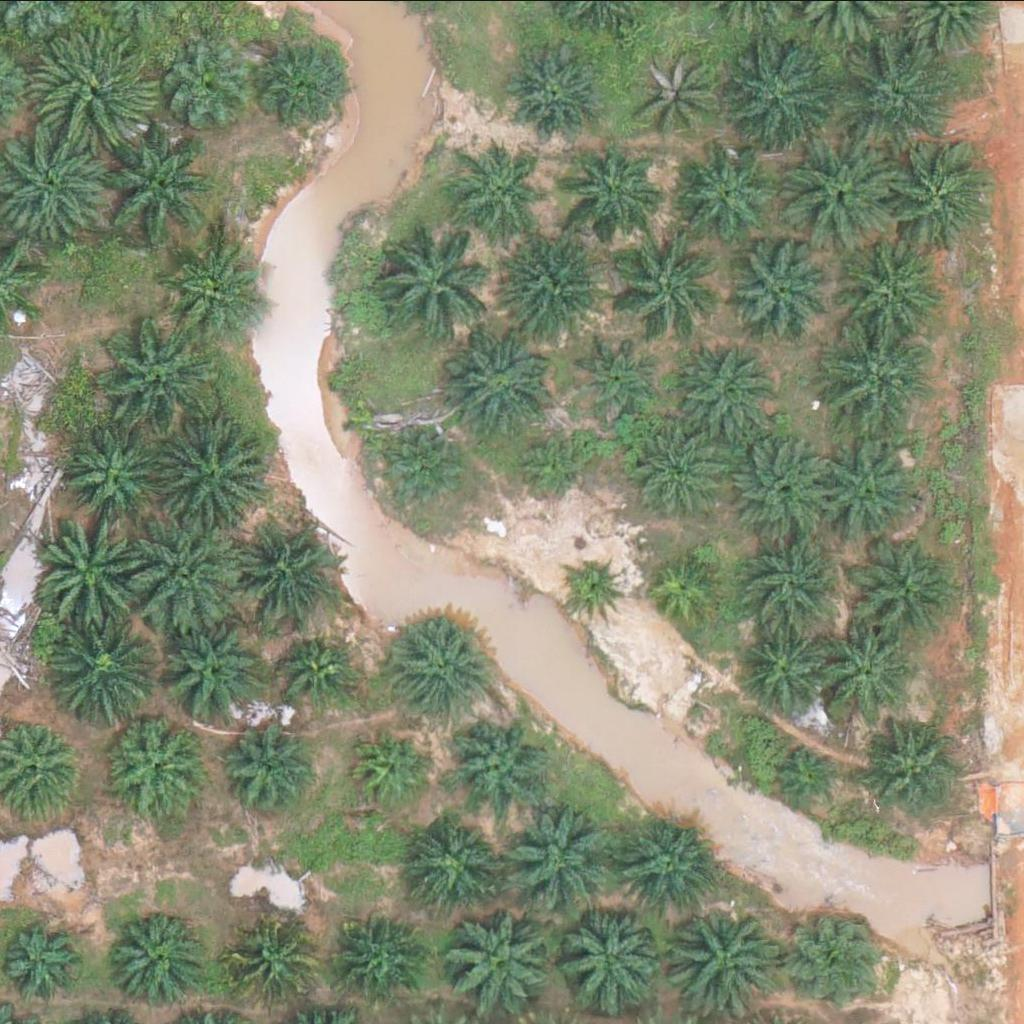Kelapa_Sawit: (156, 420, 270, 533), (884, 136, 997, 249), (374, 223, 487, 336), (447, 329, 560, 442), (725, 431, 838, 544), (813, 434, 926, 547), (852, 532, 965, 645), (498, 803, 611, 916), (442, 902, 555, 1015), (553, 898, 666, 1011), (35, 32, 148, 145), (52, 613, 165, 726), (605, 225, 719, 337), (822, 327, 936, 439), (843, 32, 956, 144), (722, 36, 835, 148), (98, 132, 211, 244), (784, 138, 897, 250), (841, 237, 954, 349), (502, 234, 615, 346), (98, 321, 211, 433), (131, 513, 244, 625), (665, 900, 778, 1012), (35, 514, 148, 626), (568, 144, 669, 244), (730, 242, 831, 342), (161, 625, 262, 725), (681, 342, 782, 442), (747, 534, 848, 634), (738, 619, 839, 719), (619, 817, 720, 917), (864, 717, 965, 817), (103, 905, 204, 1005), (792, 909, 893, 1009), (62, 426, 163, 526), (250, 34, 350, 134), (503, 43, 603, 143), (672, 144, 772, 244), (171, 237, 271, 337), (236, 527, 336, 627), (396, 617, 496, 717), (629, 419, 729, 519), (818, 624, 918, 724), (104, 714, 204, 814), (449, 711, 549, 811), (157, 42, 245, 130), (575, 331, 663, 419), (383, 426, 471, 514), (221, 729, 309, 817), (416, 818, 504, 906), (227, 918, 315, 1006), (634, 47, 722, 134), (464, 145, 552, 232), (335, 916, 423, 1003), (352, 730, 428, 805), (278, 635, 353, 710), (514, 427, 589, 502), (652, 551, 727, 626), (776, 736, 851, 811), (565, 554, 628, 617)
